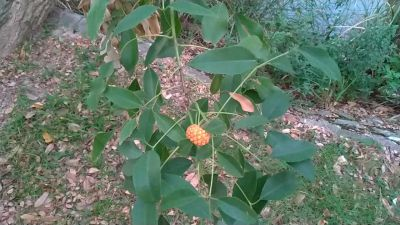eggs: (183, 122, 214, 148)
